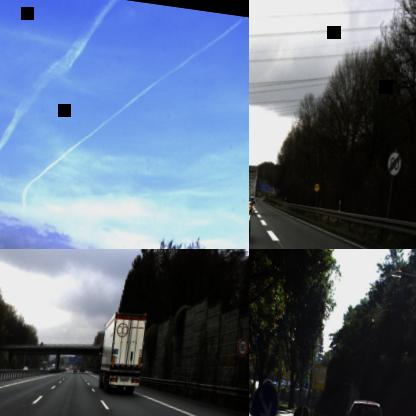keep right: (249, 379, 281, 416)
restriction ends: (384, 150, 402, 176)
speed limit 80: (236, 336, 249, 357)
